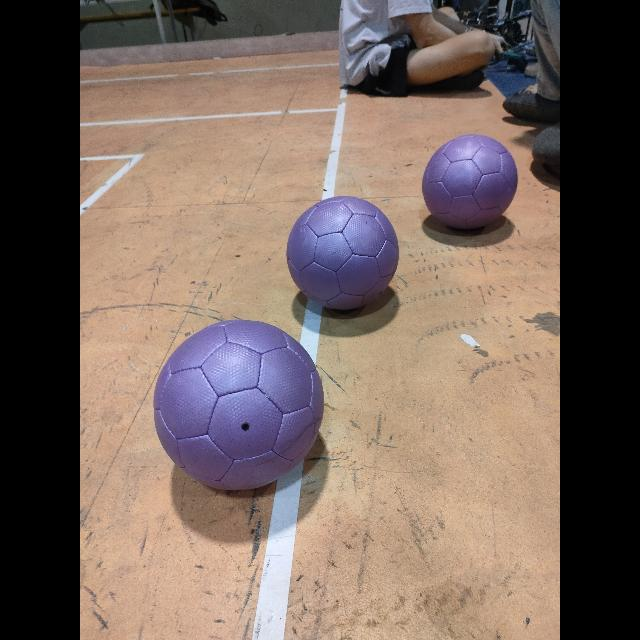P: (154, 320, 323, 490), (287, 196, 398, 310), (422, 134, 518, 228)
